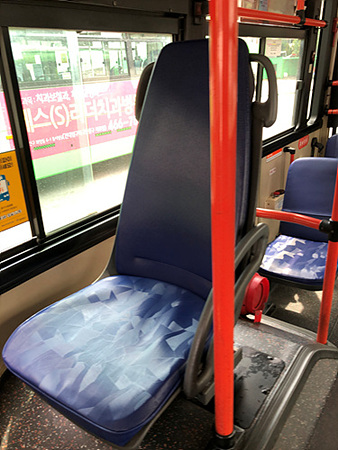seat: (10, 47, 216, 429)
